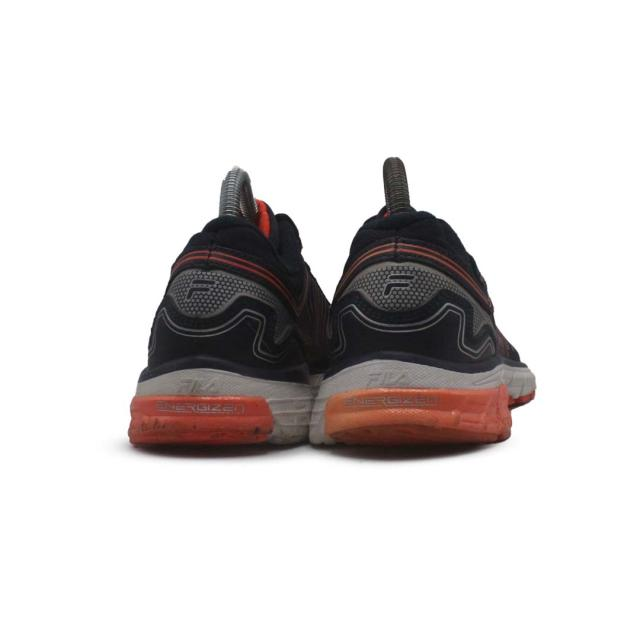heel: (324, 156, 491, 373), (144, 221, 305, 380)
midsole: (306, 360, 534, 445), (129, 371, 309, 453)
